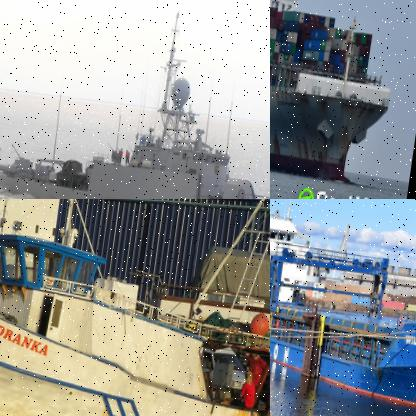Fishing Boat: (0, 199, 269, 415)
Merchant Ship: (270, 199, 415, 415), (270, 0, 409, 186)
Military Ship: (0, 0, 269, 198)
Yacht: (0, 199, 269, 326)
